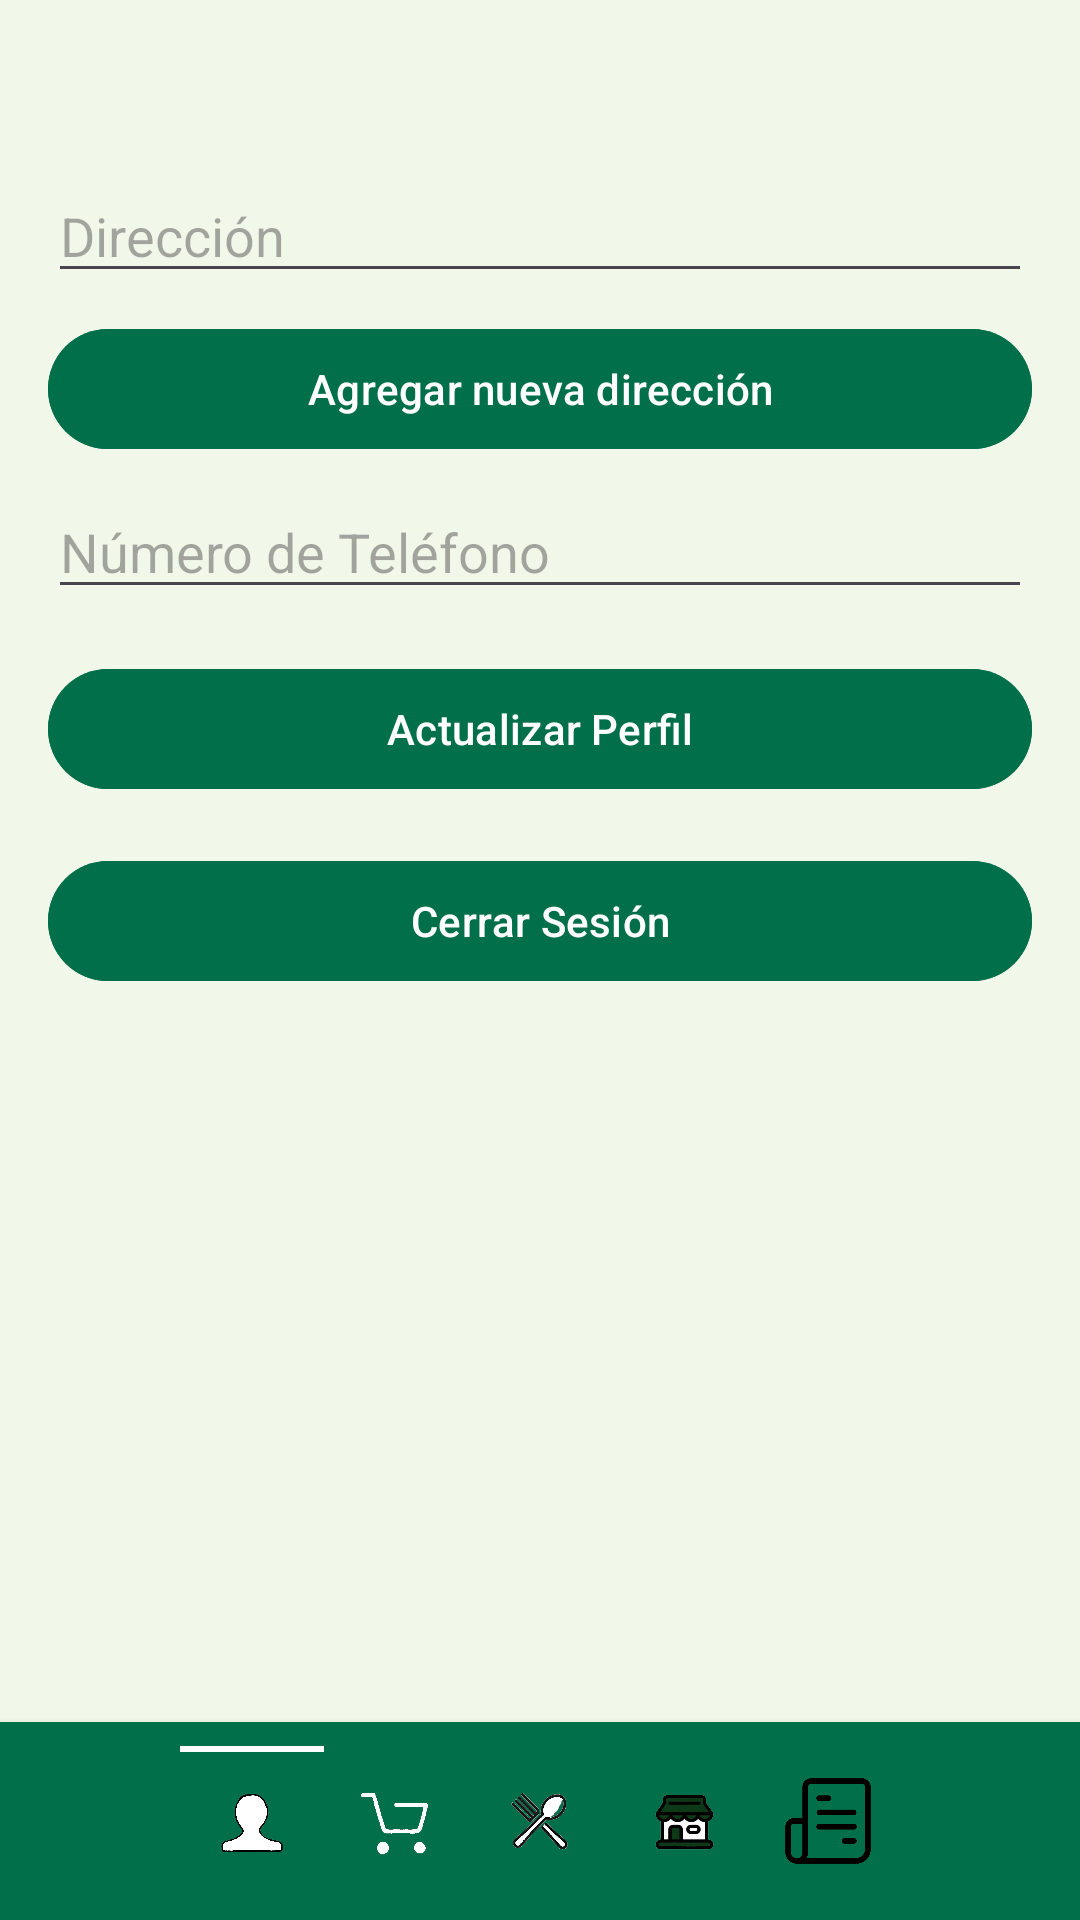

Locate icon controls on the screen. Image size 1080px×1920px, boxes as Rect(x1, y1, x2, y2).
carrito: Rect(361, 1793, 428, 1855)
Ordenes: Rect(785, 1778, 871, 1864)
Perfil: Rect(221, 1794, 283, 1853)
restaurantes: Rect(511, 1793, 568, 1850)
Supermercado: Rect(655, 1795, 714, 1850)
